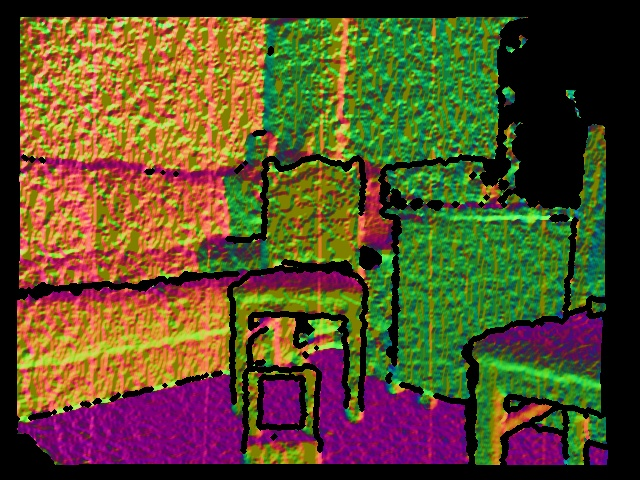station: (241, 368, 324, 466)
